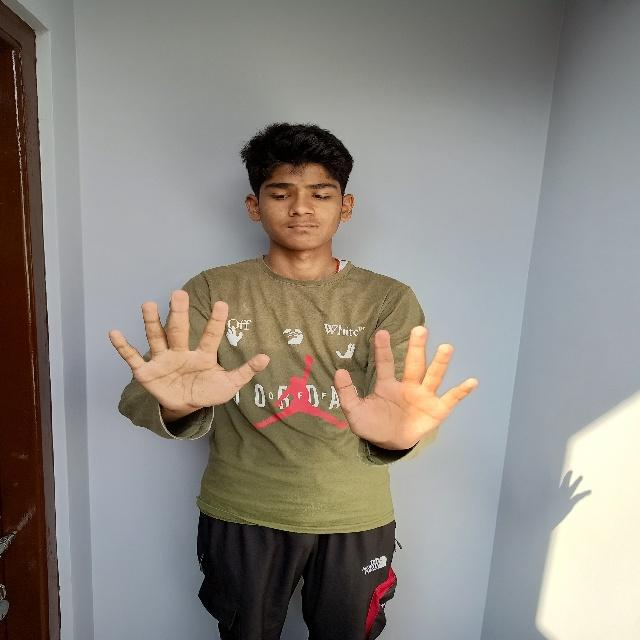Moutza: (102, 286, 277, 417), (329, 317, 486, 455)
